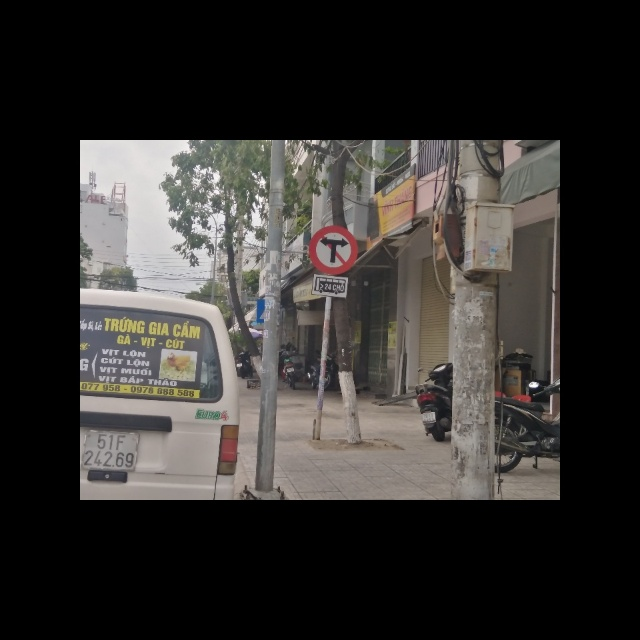Cấm rẽ trái và rẽ phải: (308, 224, 358, 274)
